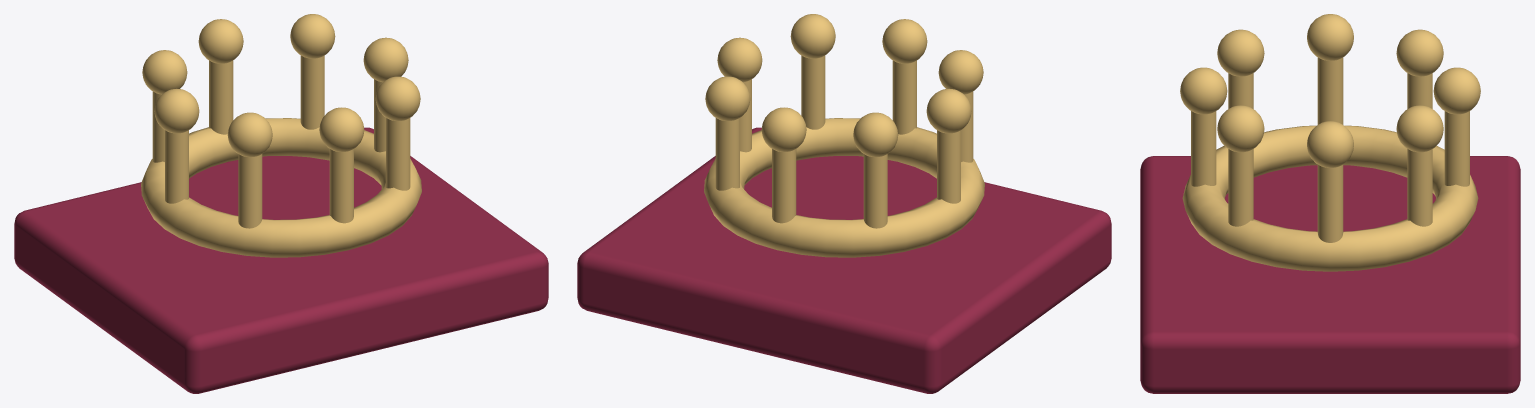
Rendered from royal-court-and-throne-palace-crown-display-cushion-bd5d7fc4__29391.glb.
The picture shows the model from 3 angles, left to right: view 1: azimuth 30°, elevation 25°; view 2: azimuth 150°, elevation 25°; view 3: azimuth 270°, elevation 25°; orthographic projection. The views are drawn at different scales.
Parts seen in each view (by area): view 1: crown-display-cushion; view 2: crown-display-cushion; view 3: crown-display-cushion.
Part boxes in pixels (left/top/right/bottom): crown-display-cushion: left=14, top=14, right=548, bottom=393; crown-display-cushion: left=577, top=14, right=1111, bottom=393; crown-display-cushion: left=1140, top=14, right=1520, bottom=393.
Size of the model in its own units: 0.52 by 0.308 by 0.45.
